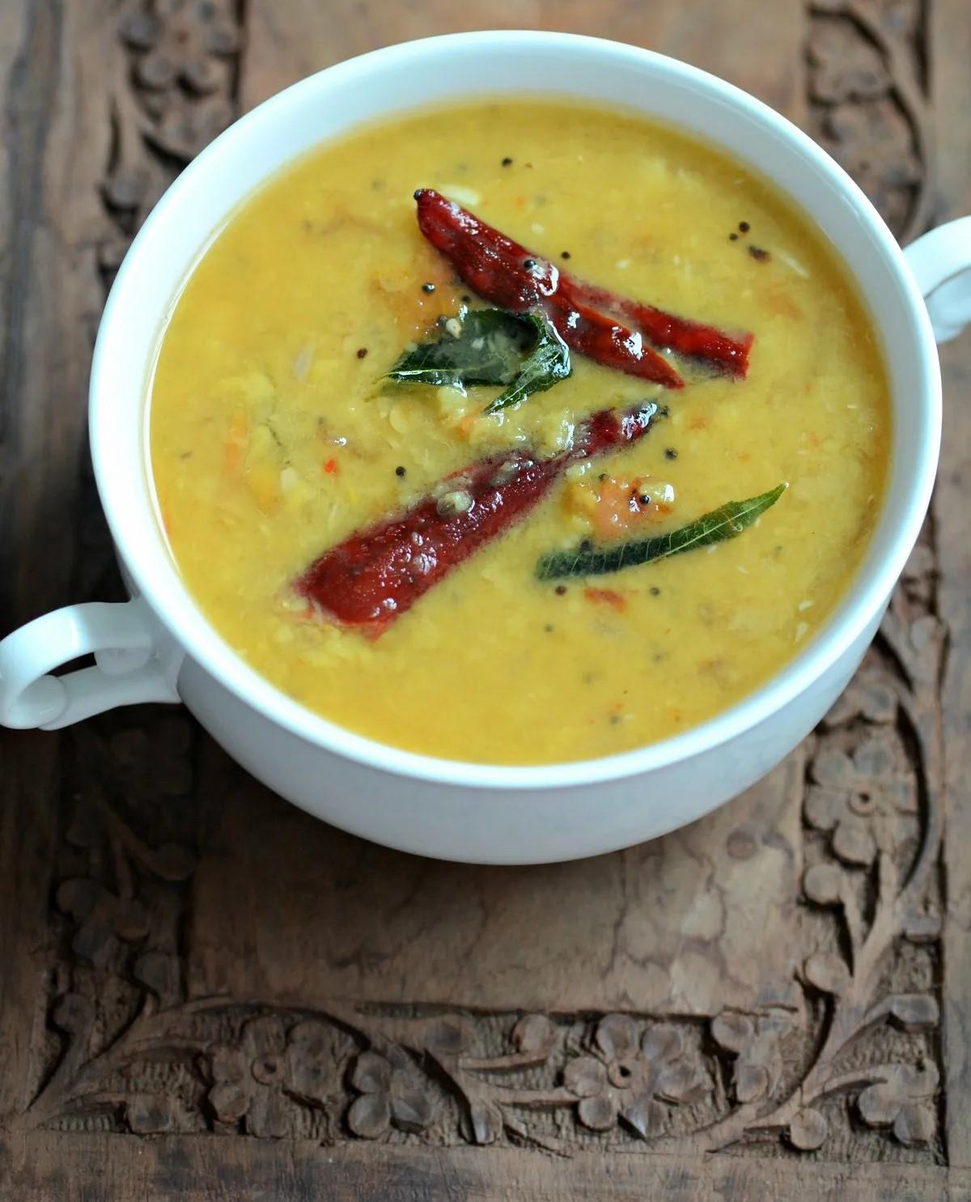Dal: (149, 92, 886, 764)
